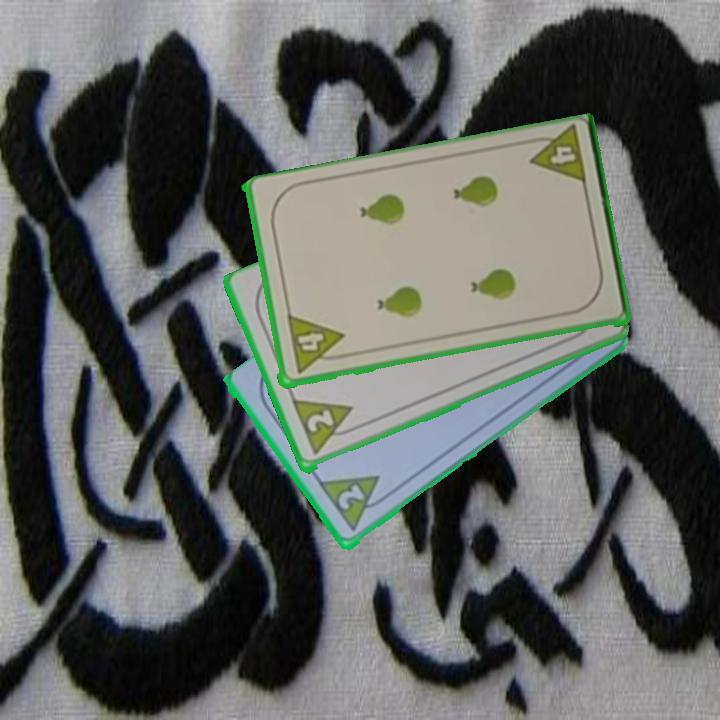2p: (316, 472, 394, 536), (289, 396, 363, 458)
4p: (522, 125, 589, 190), (283, 312, 348, 377)
